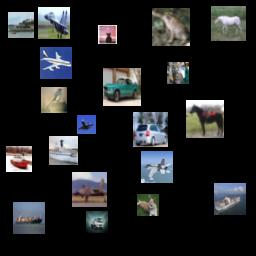airplane: (72, 172, 107, 207), (40, 47, 72, 79), (38, 7, 70, 39), (141, 151, 173, 183), (77, 115, 96, 134)
automobile: (103, 68, 141, 106), (133, 112, 168, 147)
bird: (41, 87, 67, 113)
cat: (167, 62, 189, 84), (98, 25, 117, 44)
dog: (137, 194, 159, 216)
frog: (152, 8, 190, 46)
ship: (214, 183, 246, 215), (13, 202, 45, 234), (49, 136, 78, 165), (6, 146, 32, 172), (8, 12, 34, 38)
truck: (86, 211, 108, 233)
